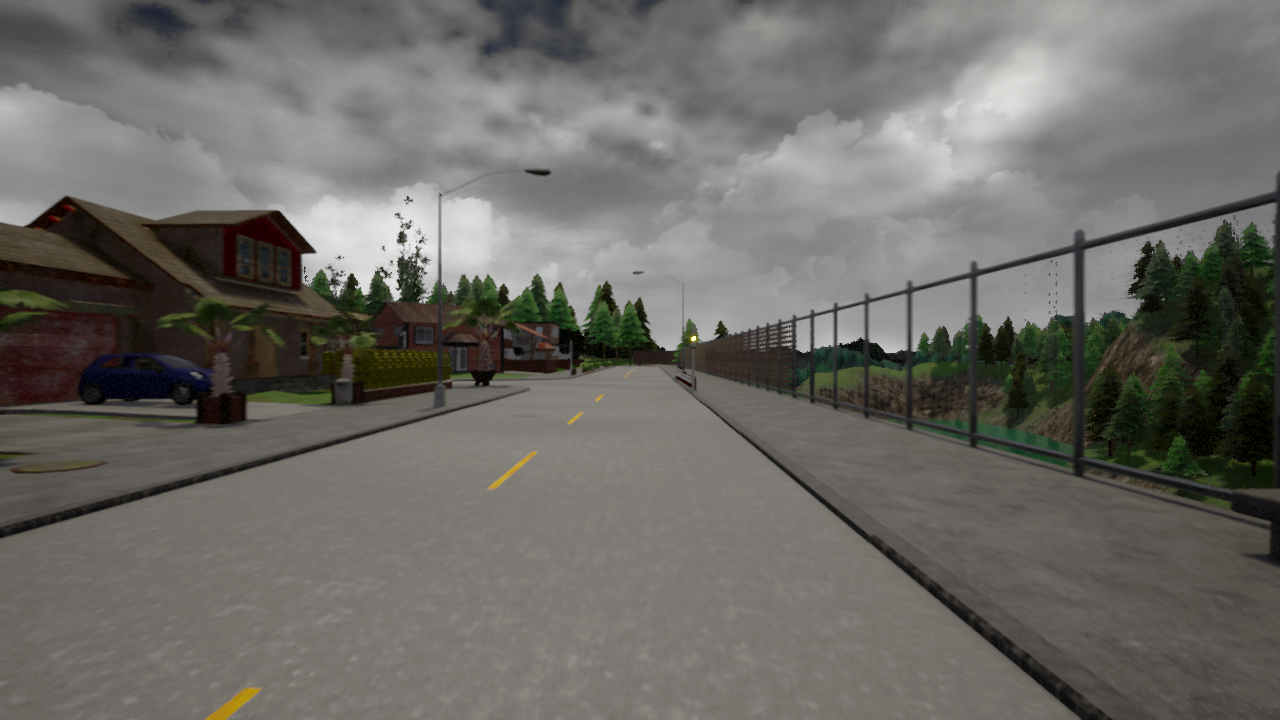yellow: (688, 327, 699, 349)
